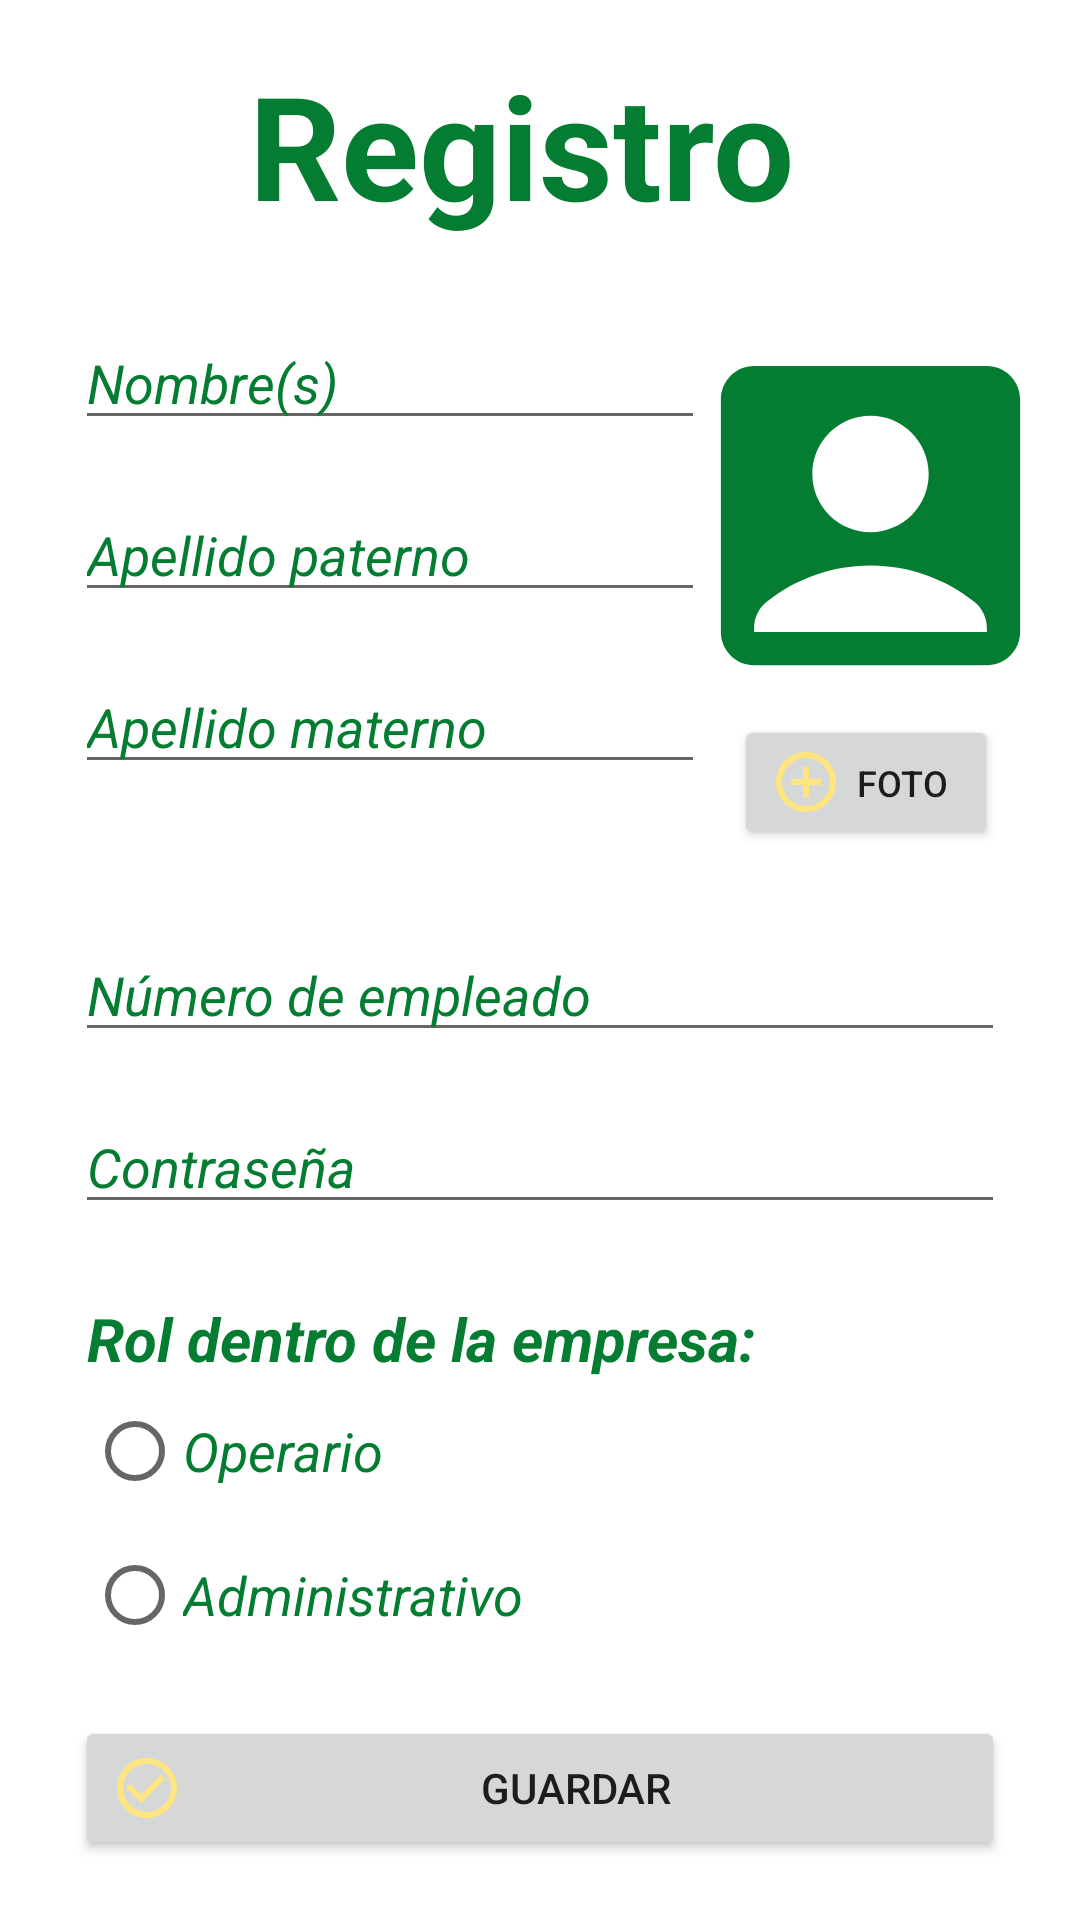

Icons on this 1080 x 1920 Android screen, each with the point to tap as [x,y]:
newaccount verde: [870,516]
